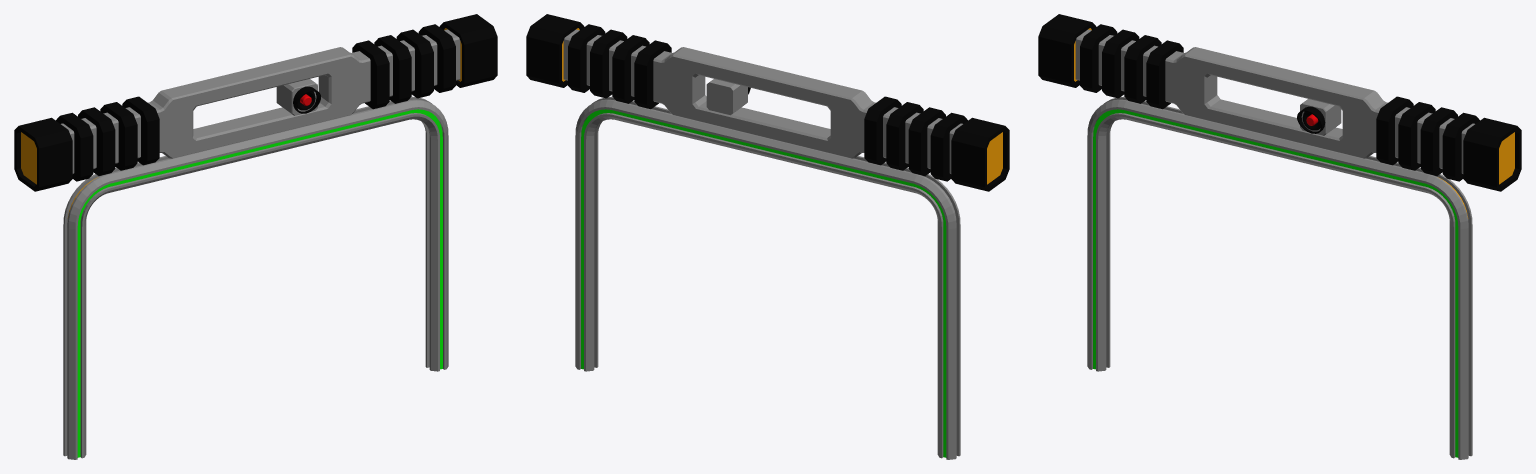
The model's file is TrafficLightGate.fbx.
3 views of the same model, side by side, from view 1: azimuth 30°, elevation 25°; view 2: azimuth 150°, elevation 25°; view 3: azimuth 330°, elevation 25° (orthographic).
Parts seen in each view (by area): view 1: Cube, TrafficLighter; view 2: Cube, TrafficLighter; view 3: Cube, TrafficLighter.
Boxes of the visible parts, box(x1,y1,x2,y2) form: Cube: box(14, 14, 497, 459); TrafficLighter: box(276, 79, 320, 115); Cube: box(526, 14, 1009, 459); TrafficLighter: box(706, 79, 750, 115); Cube: box(1038, 14, 1521, 459); TrafficLighter: box(1297, 99, 1341, 135).
Size of the model in its own units: 5.2 by 3.67 by 0.5145.
